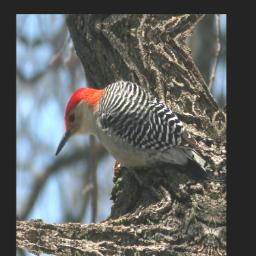Woodpecker: (53, 66, 220, 202)
